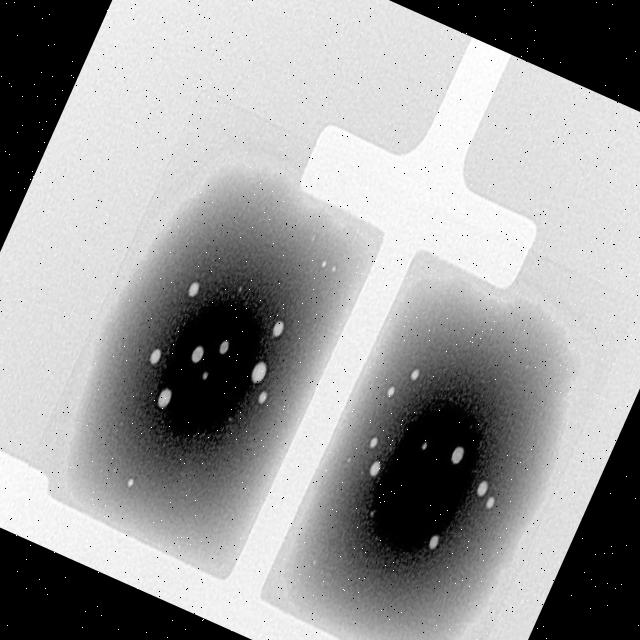chip: (67, 169, 380, 575), (261, 252, 580, 640)
void: (251, 362, 266, 384), (157, 388, 171, 409), (451, 446, 464, 464), (191, 346, 203, 363), (149, 349, 161, 365), (476, 481, 488, 497), (272, 321, 283, 337), (369, 461, 380, 477), (188, 282, 199, 297), (428, 536, 439, 550), (219, 340, 229, 354), (410, 369, 420, 381), (485, 496, 494, 509), (258, 392, 267, 404), (370, 437, 378, 448), (387, 386, 394, 397)
